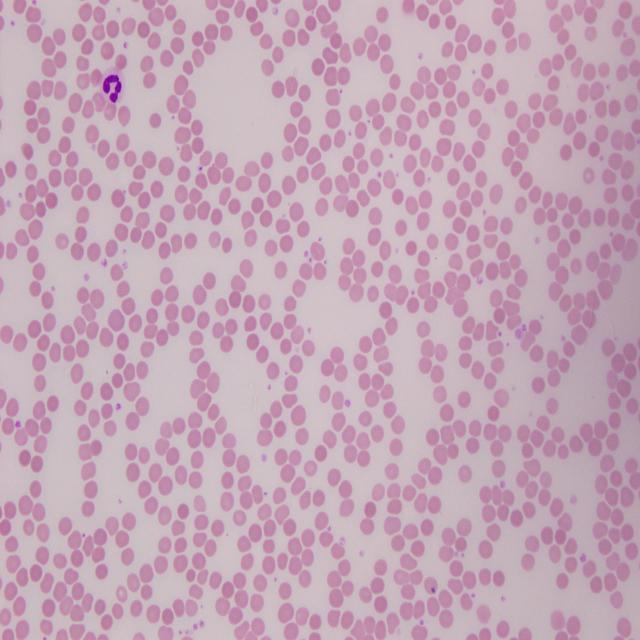cell: (100, 68, 125, 103)
